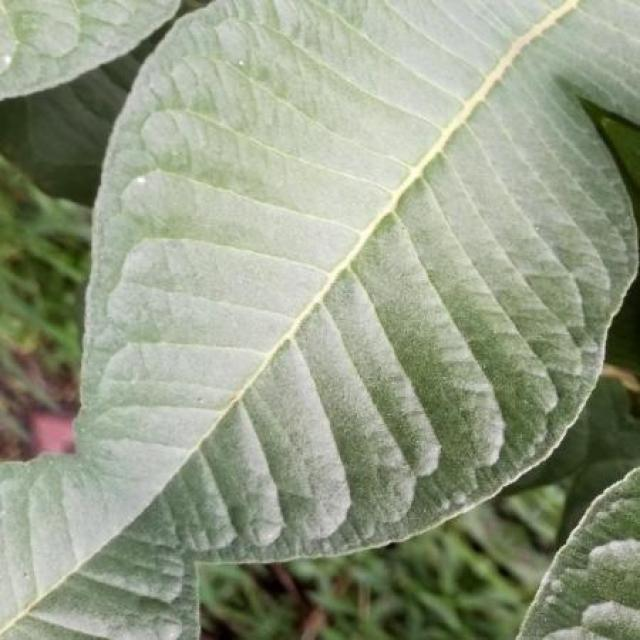Disease Free: (0, 0, 640, 639), (519, 468, 640, 639)
